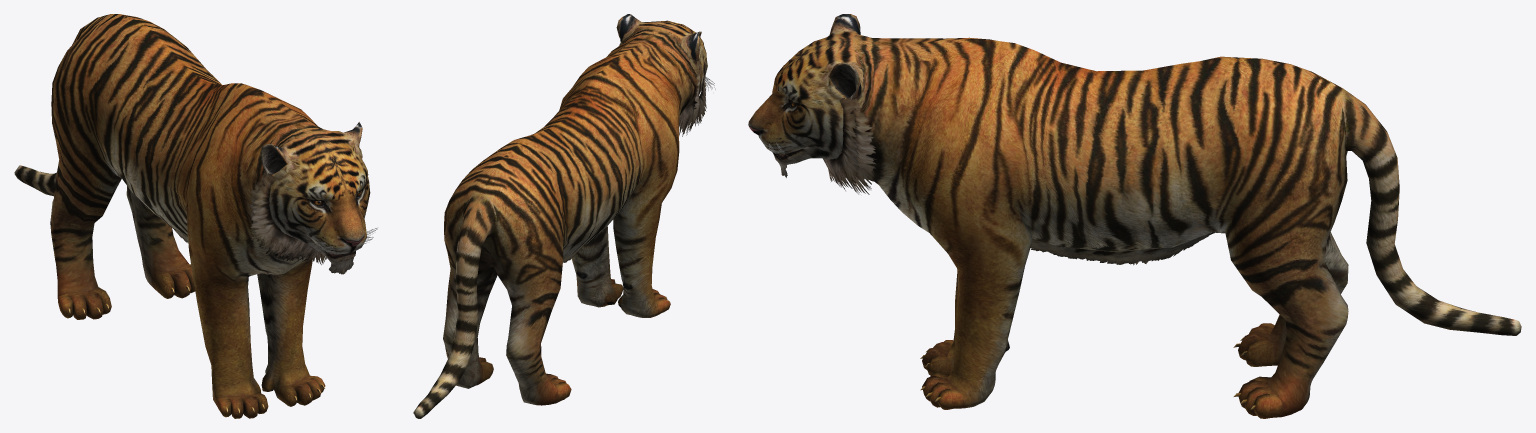
Rendered from Yo'lbars.fbx.
The picture shows the model from 3 angles, left to right: view 1: azimuth 30°, elevation 25°; view 2: azimuth 150°, elevation 25°; view 3: azimuth 270°, elevation 25°; orthographic projection. The views are drawn at different scales.
Visible parts, largest first — view 1: tiger_run.001; view 2: tiger_run.001; view 3: tiger_run.001.
Boxes of the visible parts, box(x1,y1,x2,y2) form: tiger_run.001: box(14, 14, 377, 418); tiger_run.001: box(413, 14, 715, 418); tiger_run.001: box(748, 14, 1521, 418).
Size of the model in its own units: 2280 by 4702 by 9464.
Materials: 1 (1 with a texture image).
